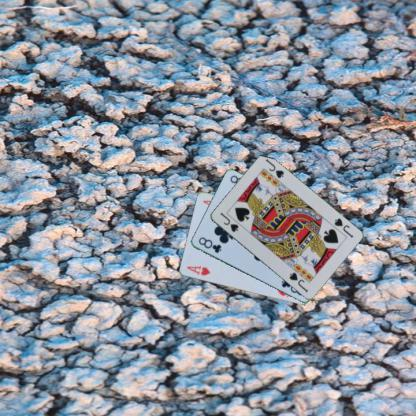8c: (196, 234, 223, 254)
Ah: (184, 263, 210, 277)
Js: (217, 210, 240, 233), (332, 216, 354, 240)
